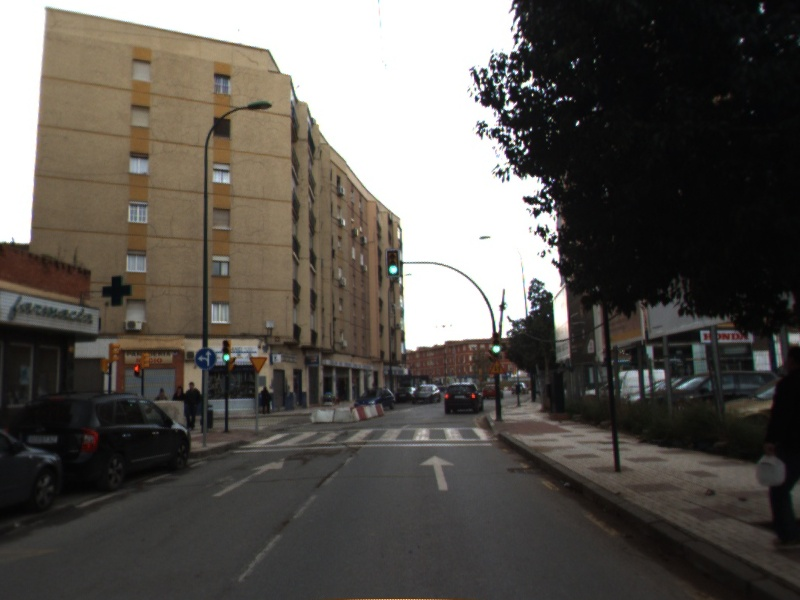STRAIGHT: (210, 455, 288, 499), (417, 452, 458, 493)
